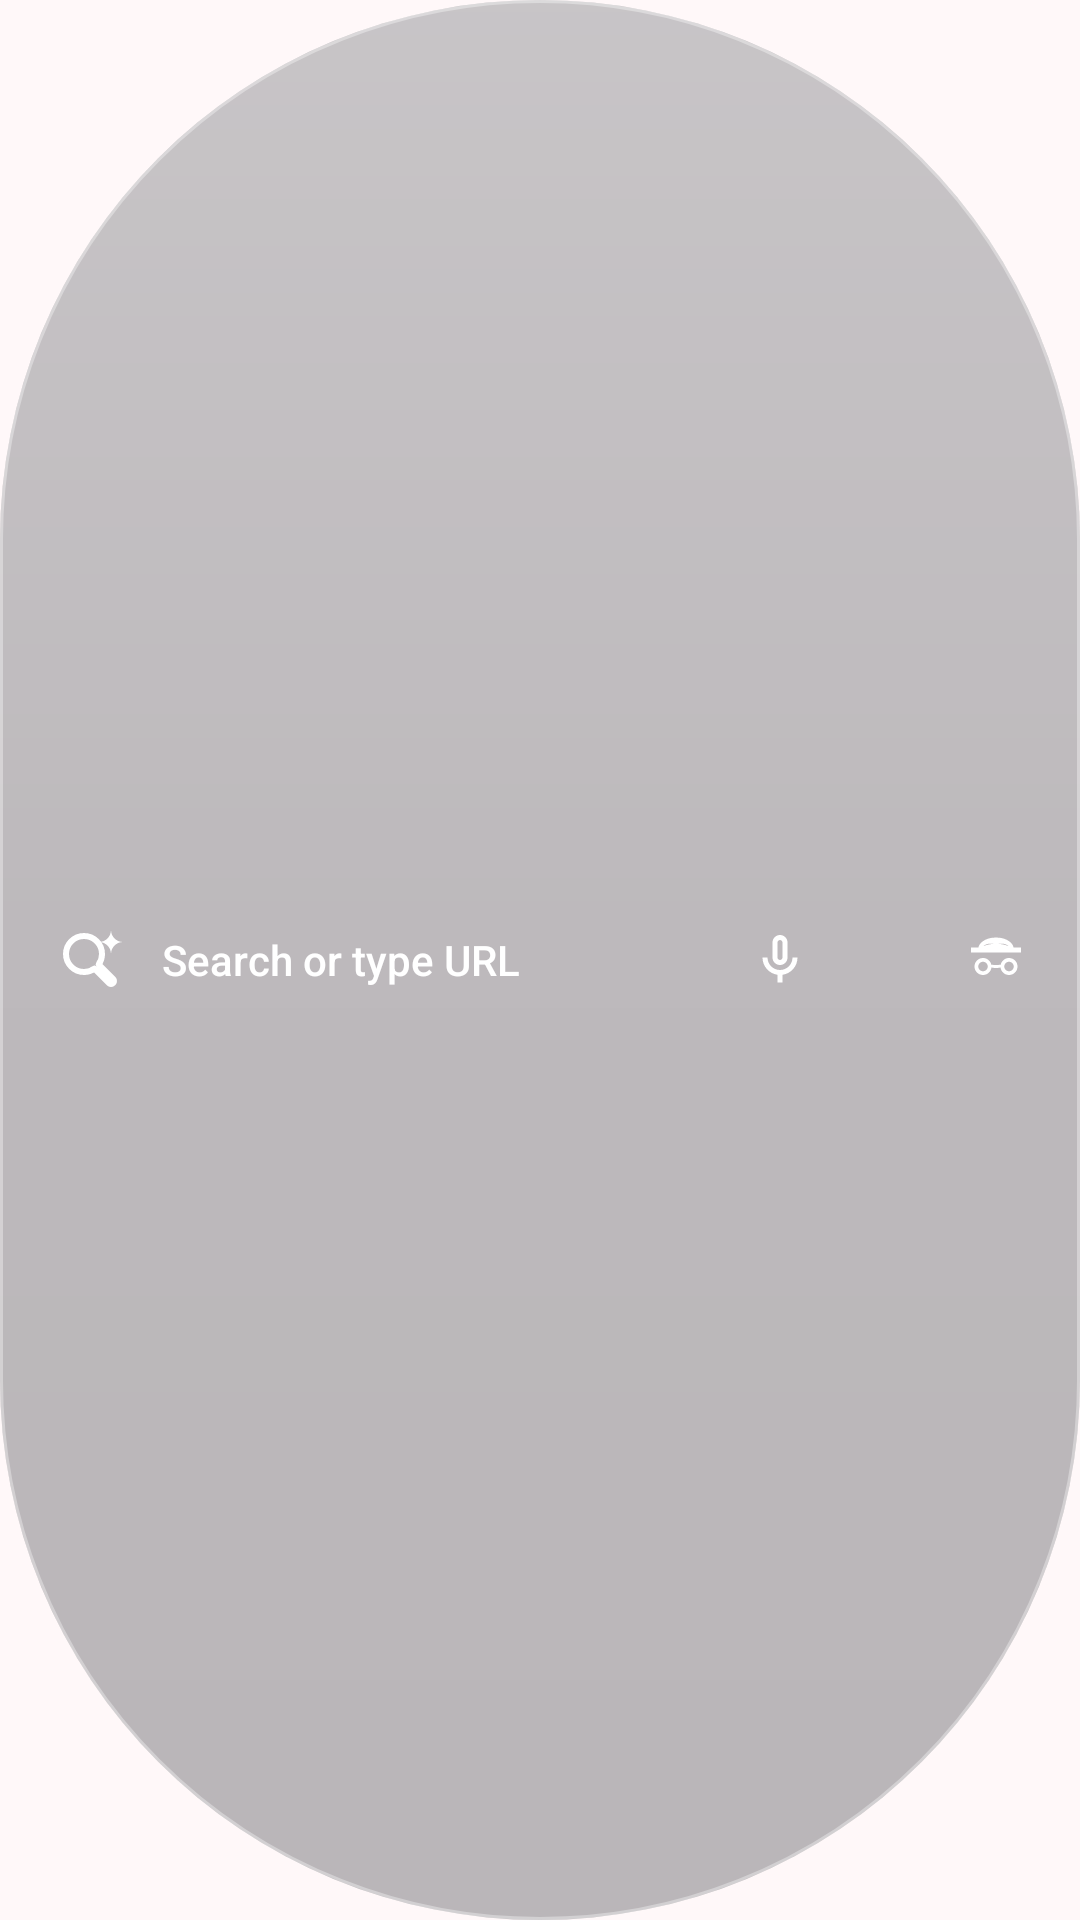

Screen size 1080px×1920px. Icon name, then its center in pixels as (x=x, y=y):
New Incognito Tab: (x=996, y=956)
Voice Search: (x=780, y=959)
